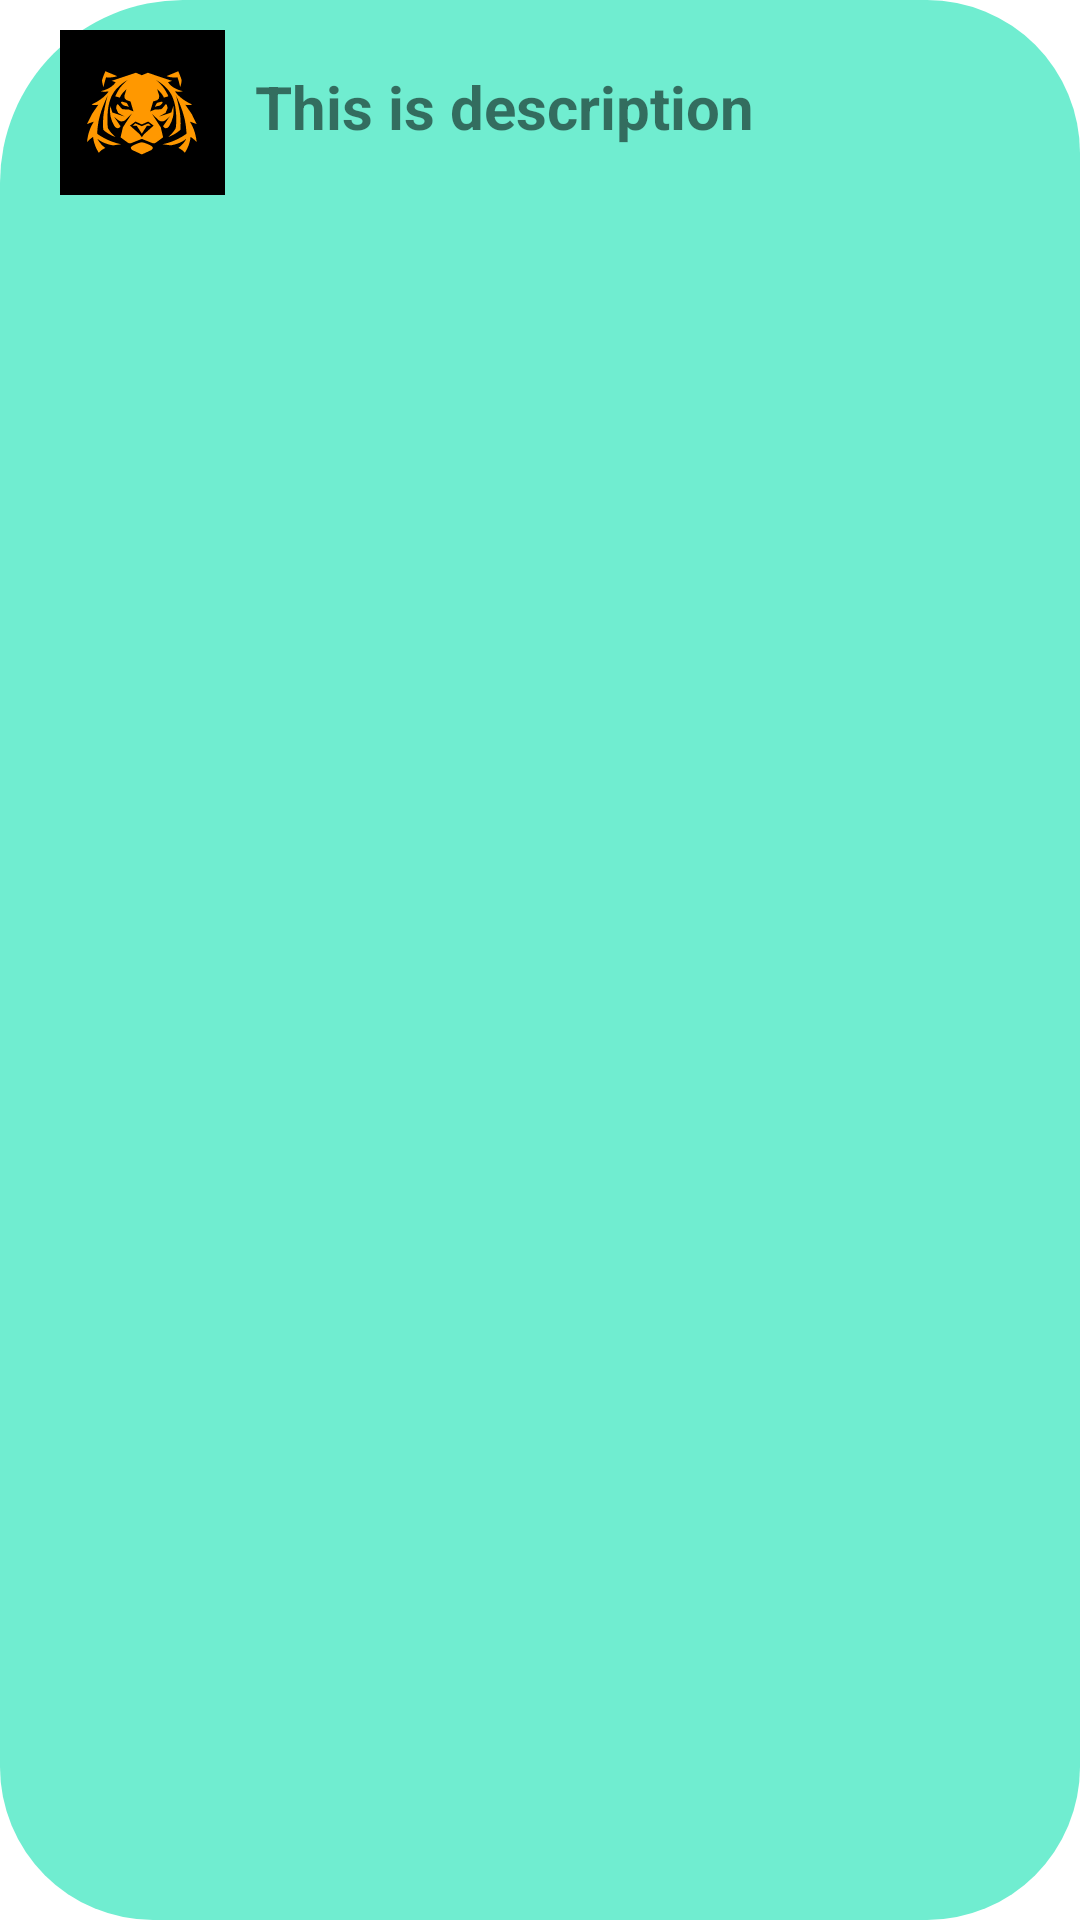

Where icons sit on this 1080 x 1920 app screen, as (x1, y1, x2, y2):
tiger: (60, 30, 225, 195)
